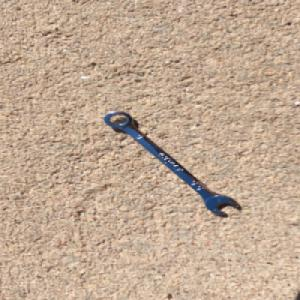Wrench: (102, 110, 241, 216)
